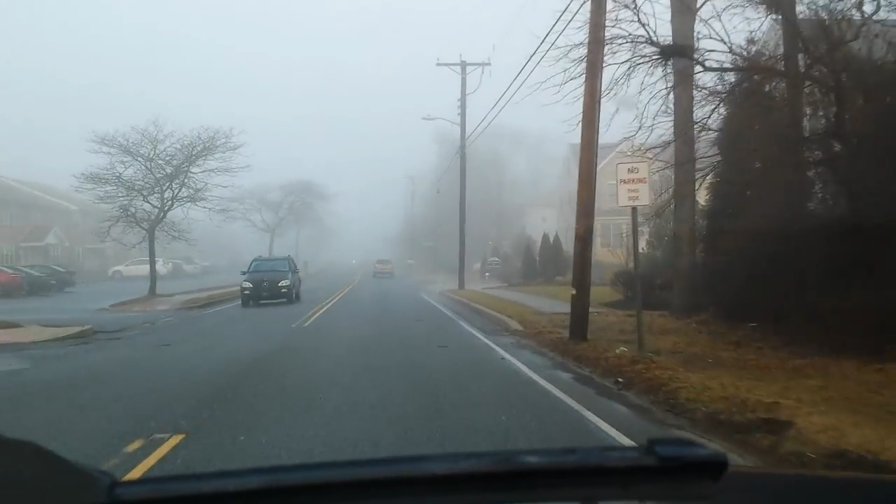car: (238, 254, 303, 308), (5, 263, 78, 294), (1, 261, 59, 295), (107, 257, 172, 283), (149, 257, 204, 278), (1, 263, 28, 296), (371, 258, 396, 277)
